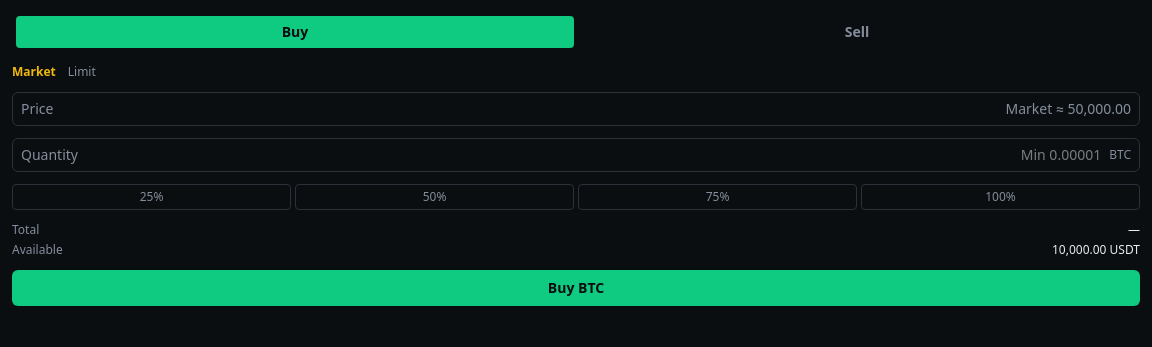
Scenario: OrderForm › only complains about an empty field after a submit attempt
Check: the text "Enter a quantity" is not shown
Click the button "Buy BTC".
click(576, 288)  # box [12, 270, 1140, 306]
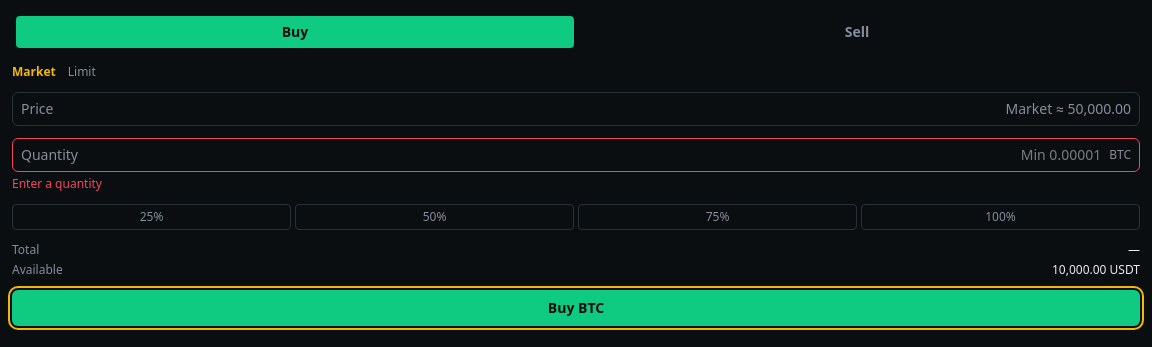
Check: the text "Enter a quantity" is shown, box [12, 175, 102, 192]
